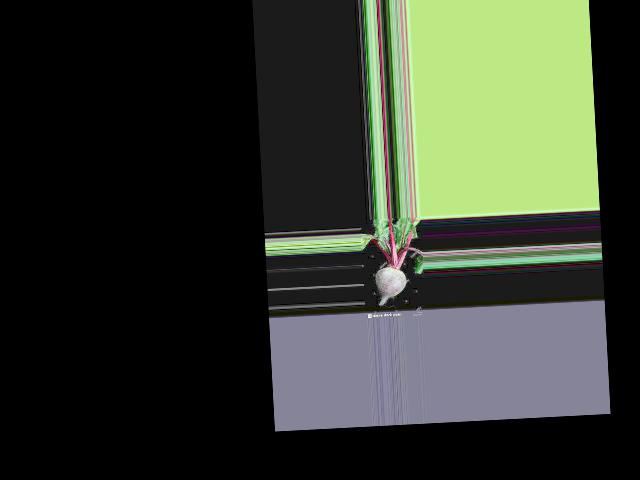beet: (360, 216, 425, 306)
